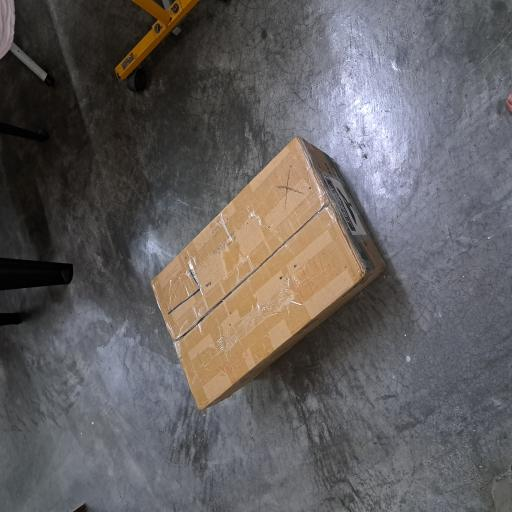cardboard: (78, 198, 280, 512)
